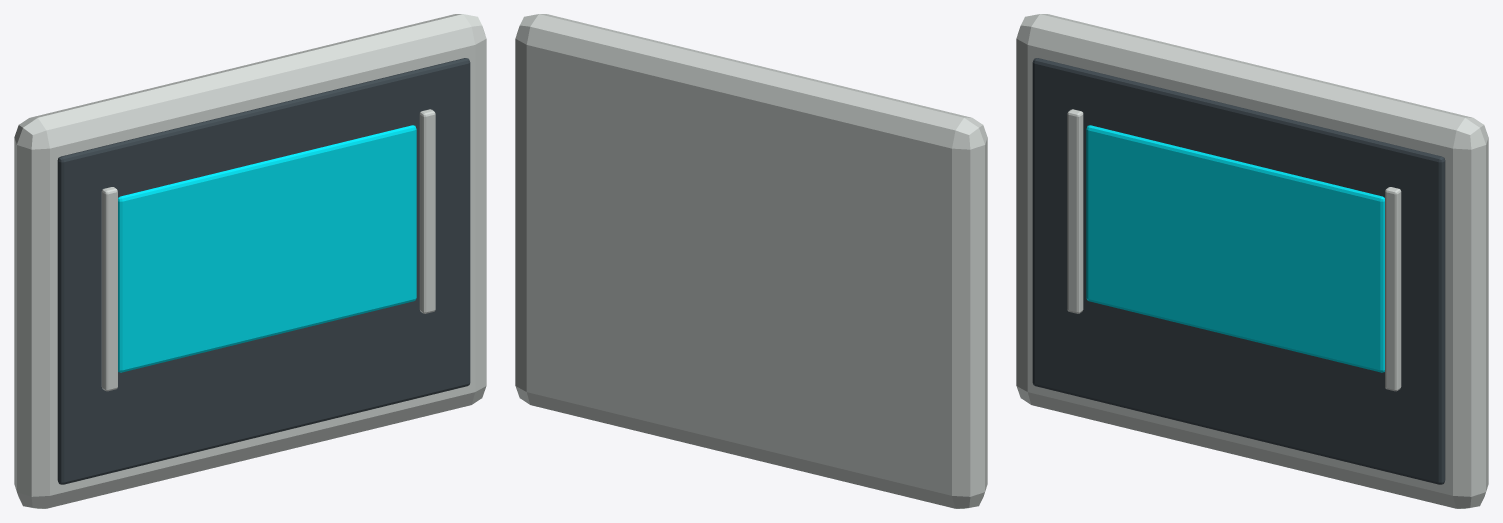
The model's file is LPK_Wall_Window_4m.fbx.
3 renders of one model, left to right at view 1: azimuth 30°, elevation 25°; view 2: azimuth 150°, elevation 25°; view 3: azimuth 330°, elevation 25°, orthographic.
Visible parts, largest first — view 1: LPK_Wall_Window_4m_InnerTrim, LPK_Wall_Window_4m_Glass, LPK_Wall_Window_4m_Hull, LPK_Wall_Window_4m_WindowRib.001, LPK_Wall_Window_4m_WindowRib; view 2: LPK_Wall_Window_4m_Hull; view 3: LPK_Wall_Window_4m_InnerTrim, LPK_Wall_Window_4m_Glass, LPK_Wall_Window_4m_Hull, LPK_Wall_Window_4m_WindowRib, LPK_Wall_Window_4m_WindowRib.001.
Part boxes in pixels (x1,y1,x2,y2): LPK_Wall_Window_4m_InnerTrim: [57, 58, 470, 484]; LPK_Wall_Window_4m_Glass: [118, 125, 416, 372]; LPK_Wall_Window_4m_Hull: [14, 14, 486, 508]; LPK_Wall_Window_4m_WindowRib.001: [419, 109, 435, 313]; LPK_Wall_Window_4m_WindowRib: [101, 187, 117, 391]; LPK_Wall_Window_4m_Hull: [515, 14, 987, 508]; LPK_Wall_Window_4m_InnerTrim: [1032, 58, 1445, 484]; LPK_Wall_Window_4m_Glass: [1086, 125, 1384, 372]; LPK_Wall_Window_4m_Hull: [1016, 14, 1488, 508]; LPK_Wall_Window_4m_WindowRib: [1067, 109, 1083, 313]; LPK_Wall_Window_4m_WindowRib.001: [1385, 187, 1401, 391].
Size of the model in its own units: 4 by 3.2 by 0.49.
